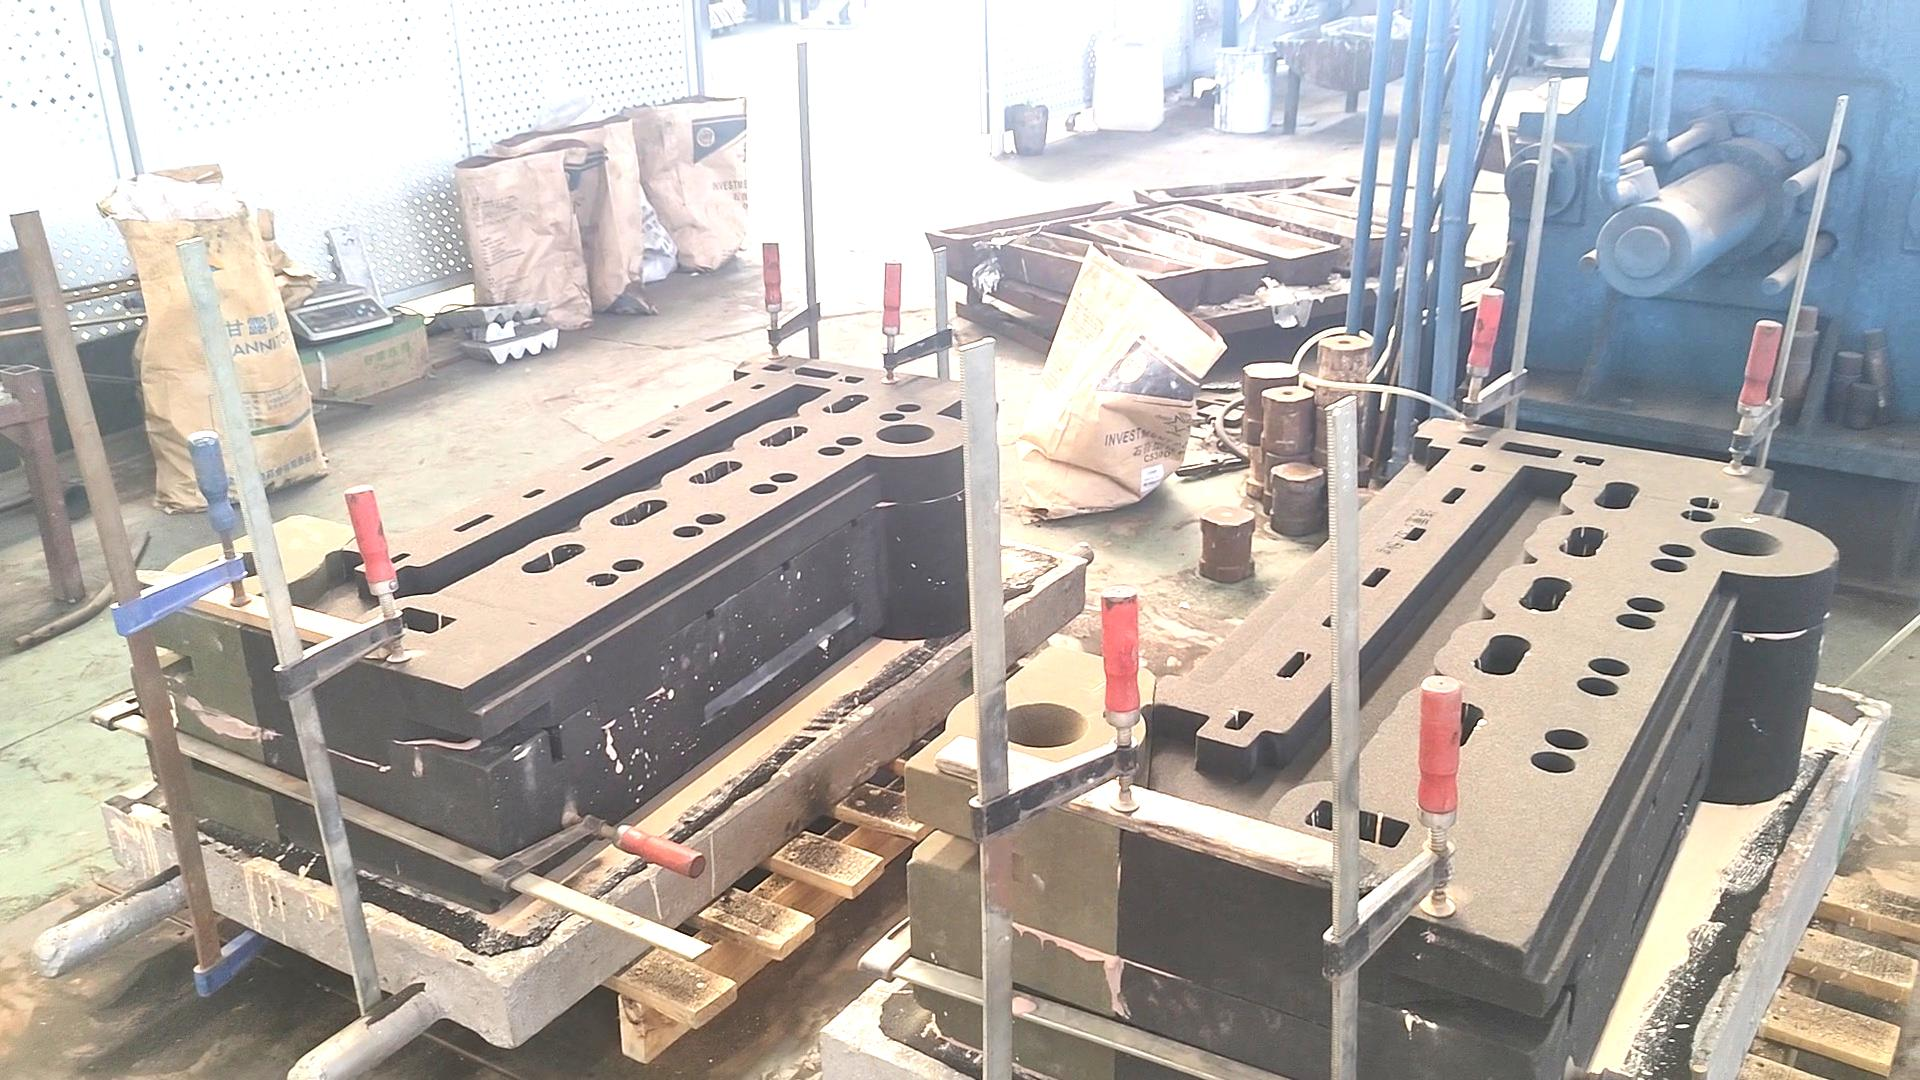pouring hole: (1000, 703, 1088, 746), (1700, 526, 1784, 556), (202, 553, 264, 585), (876, 423, 935, 444)
